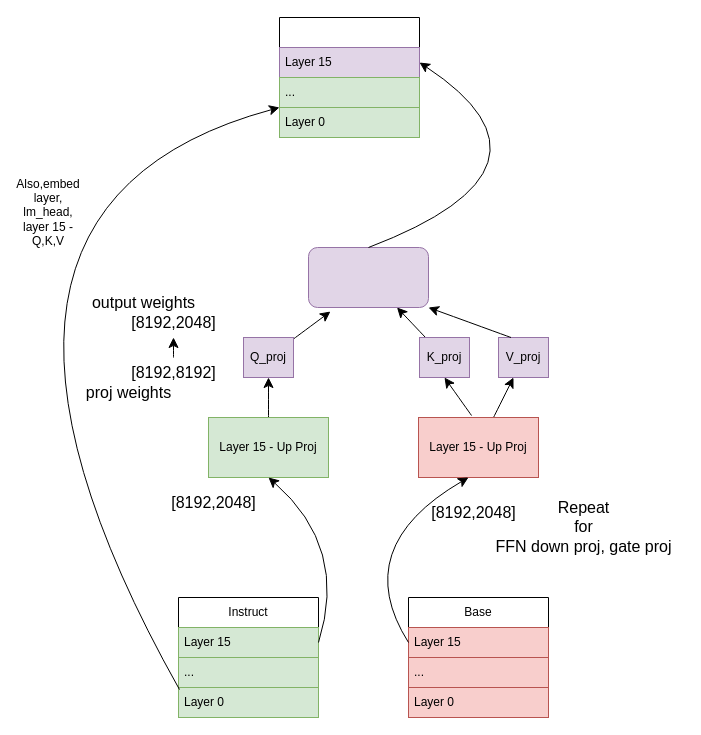
Image size: 701x735. Some labels were removed from this diagram. Here are the shapes that lost their labels. From the top down, the box of each, then its label:
(278, 16, 420, 138): Merged
(308, 246, 428, 308): out_proj(attention)
